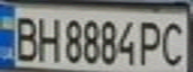4: (115, 16, 139, 65)
8: (78, 16, 103, 65), (60, 16, 84, 64), (100, 16, 121, 65)
B: (9, 12, 42, 62)
C: (157, 17, 190, 66)
H: (33, 12, 60, 63)
P: (136, 17, 166, 66)
